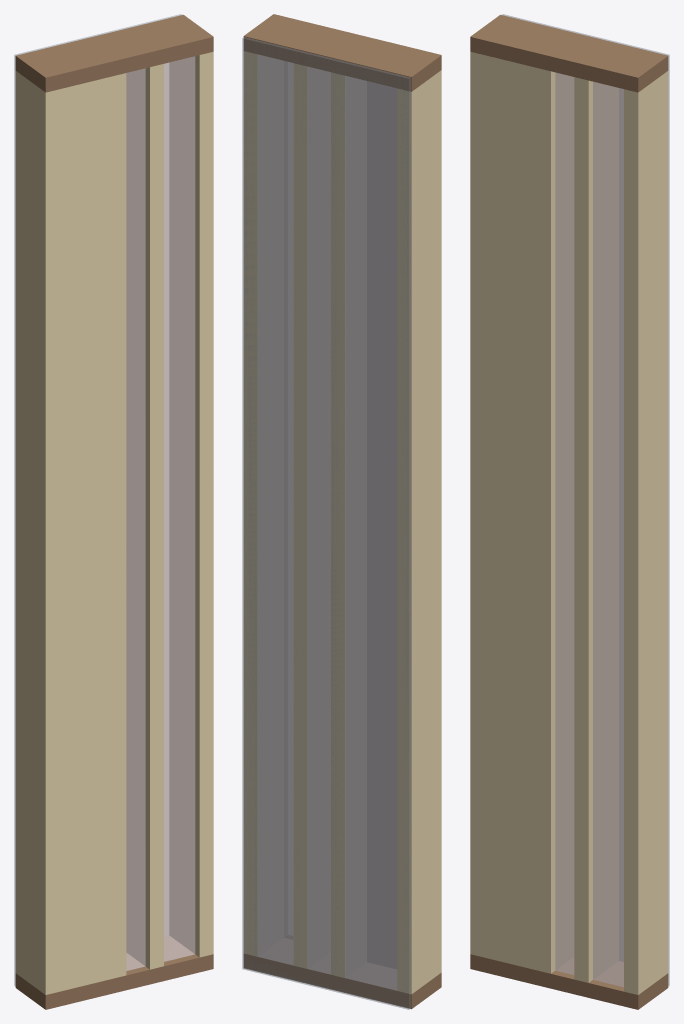
The picture shows the model from 3 angles, left to right: view 1: azimuth 30°, elevation 25°; view 2: azimuth 150°, elevation 25°; view 3: azimuth 330°, elevation 25°; orthographic projection.
Parts seen in each view (by area): view 1: EX8 GF; view 2: EX8 GF; view 3: EX8 GF.
Boxes of the visible parts, <box> form: EX8 GF: <box>14,14,213,1009</box>; EX8 GF: <box>242,14,441,1009</box>; EX8 GF: <box>470,14,669,1009</box>.
Bounding box in the file's own units: 0.45 × 2.39 × 0.149.
